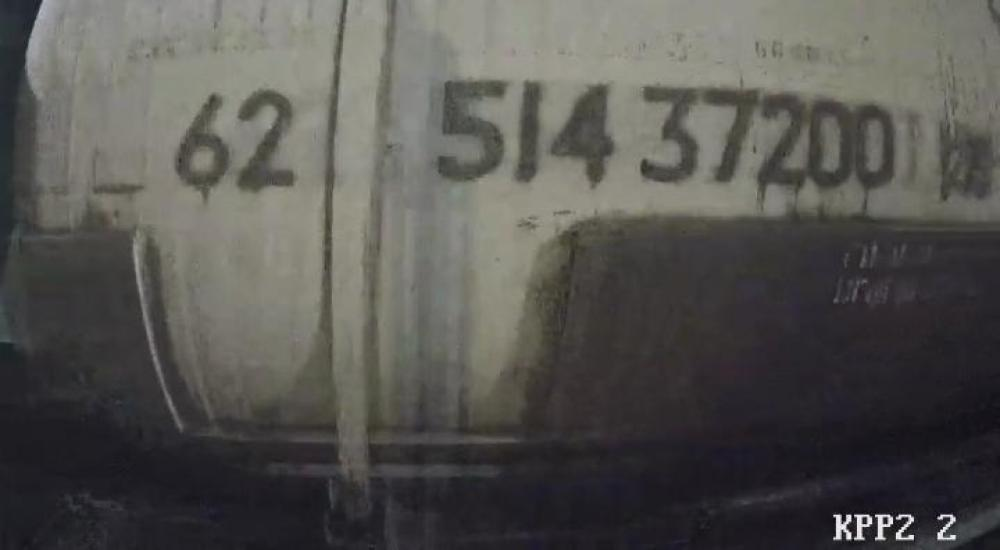Wagon-number: (428, 68, 903, 199)
